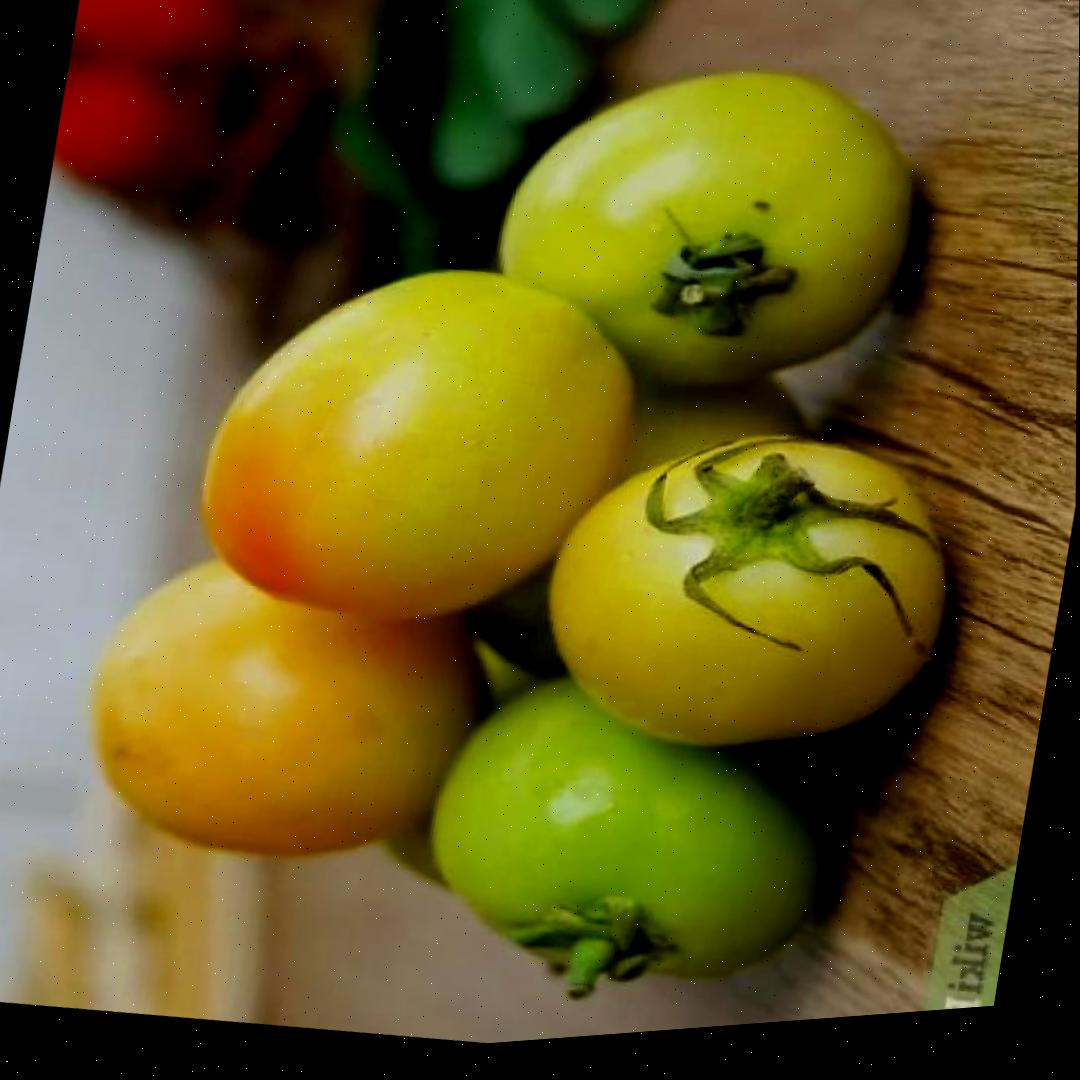mentah: (463, 8, 938, 435), (401, 626, 860, 1031)
setengah_matang: (178, 218, 647, 667), (511, 382, 973, 801), (58, 510, 509, 906)
